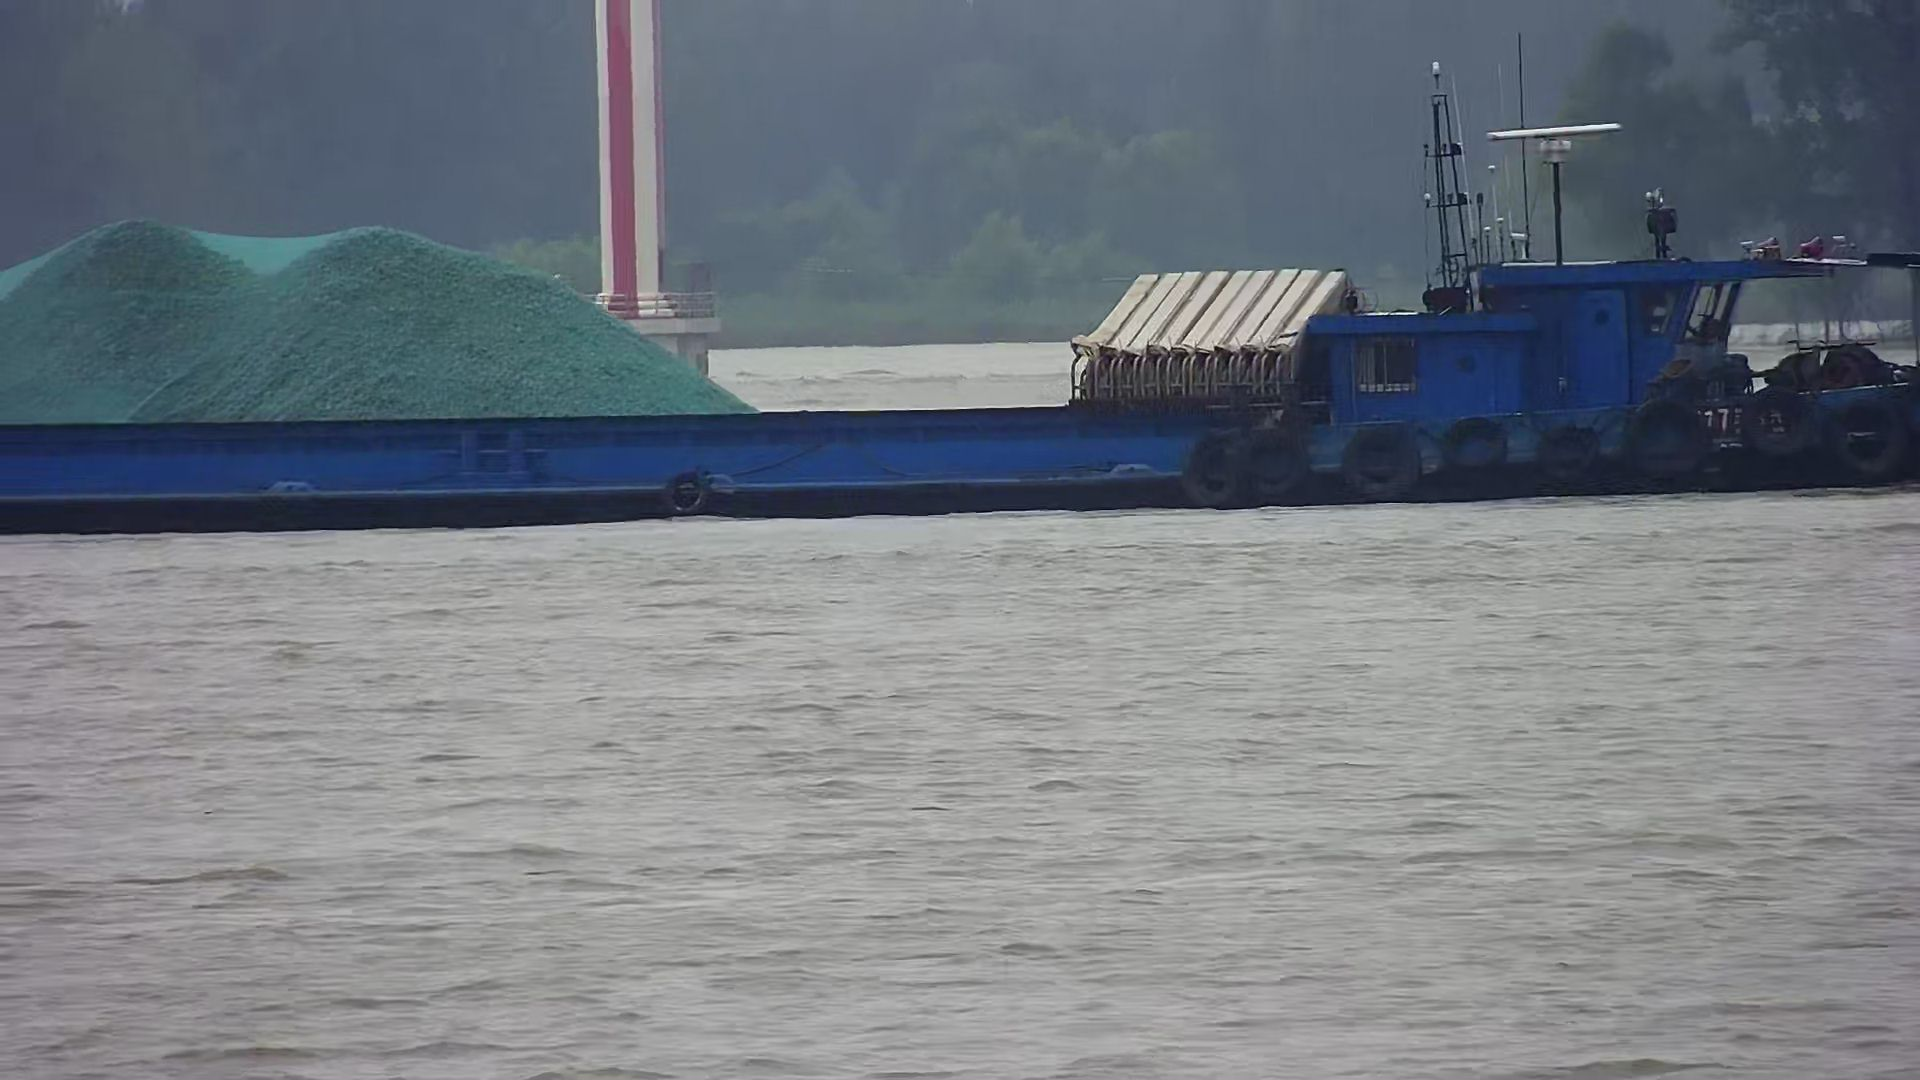platform: (556, 3, 721, 375)
ship: (3, 131, 1920, 535)
tree: (1756, 3, 1920, 342)
